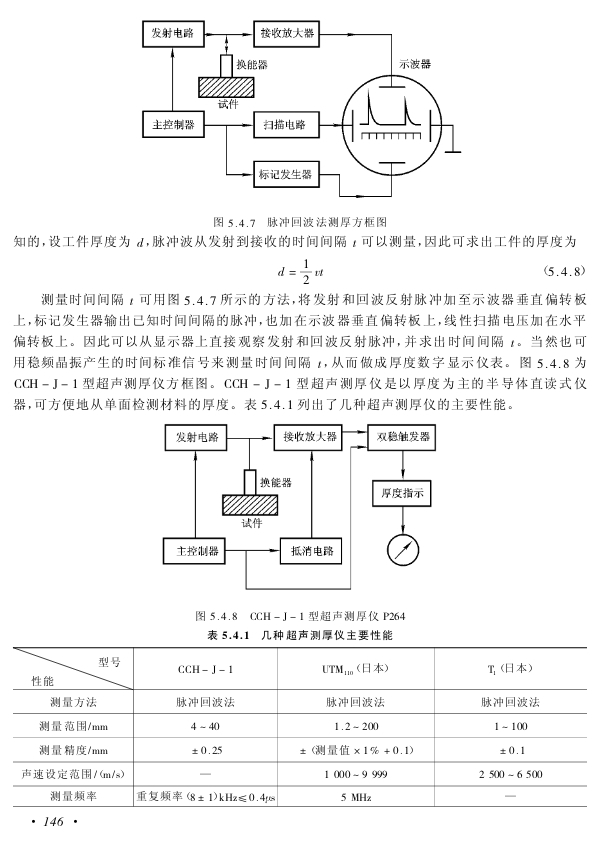table: (12, 647, 587, 807)
